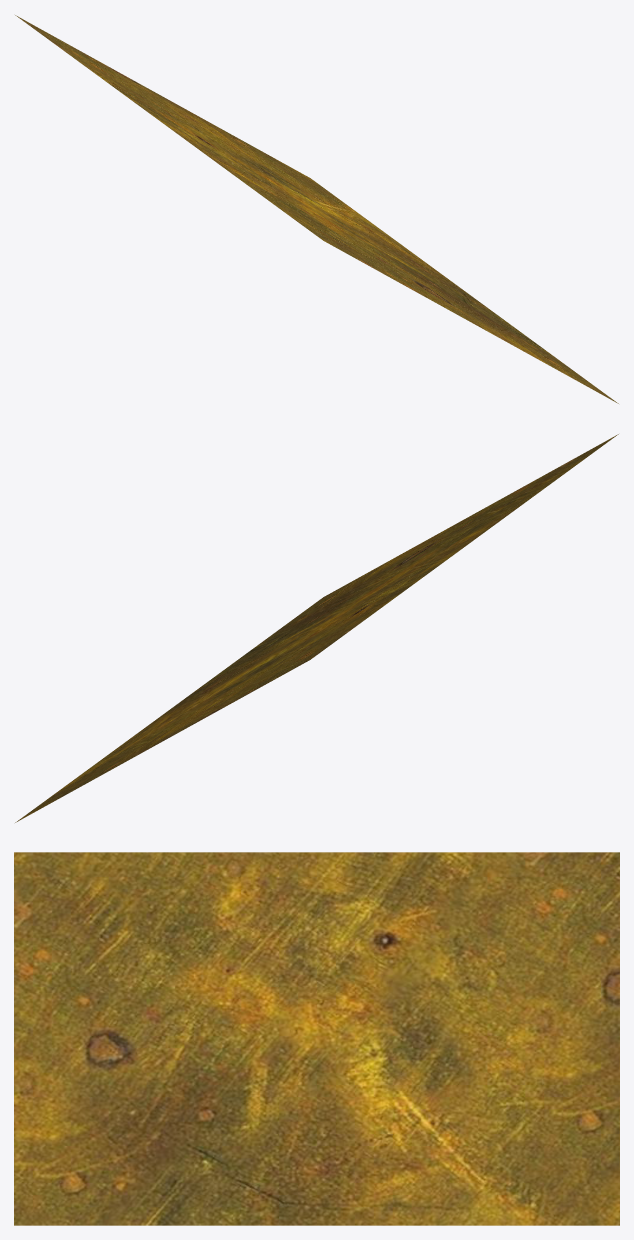
The picture shows the model from 3 angles, top to bottom: view 1: azimuth 30°, elevation 25°; view 2: azimuth 150°, elevation 25°; view 3: azimuth 270°, elevation 25°; orthographic projection. The views are drawn at different scales.
Visible parts, largest first — view 1: 4_base__material_4_11_8; view 2: 4_base__material_4_11_8; view 3: 4_base__material_4_11_8.
Boxes of the visible parts, x1,y1,x2,y2 form: 4_base__material_4_11_8: (15, 15, 618, 403); 4_base__material_4_11_8: (15, 434, 618, 822); 4_base__material_4_11_8: (14, 852, 619, 1225).
Size of the model in its own units: 0.000584 by 0.000445 by 0.00105.
1 material, 1 textured.
